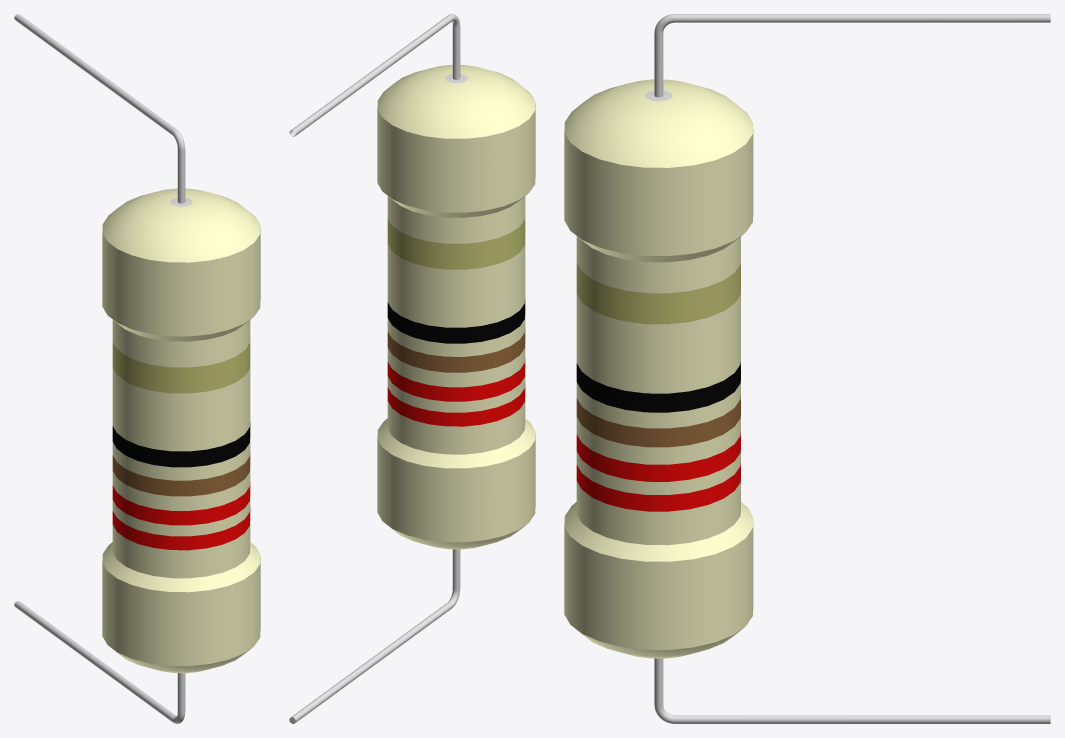
Rendered from resistor.fbx.
3 renders of one model, left to right at view 1: azimuth 30°, elevation 25°; view 2: azimuth 150°, elevation 25°; view 3: azimuth 270°, elevation 25°, orthographic. The views are drawn at different scales.
Visible parts, largest first — view 1: Component_2_1; view 2: Component_2_1; view 3: Component_2_1.
Boxes of the visible parts, x1,y1,x2,y2 form: Component_2_1: [14, 14, 260, 723]; Component_2_1: [289, 14, 535, 723]; Component_2_1: [564, 14, 1050, 723].
Size of the model in its own units: 46.18 by 191 by 119.
